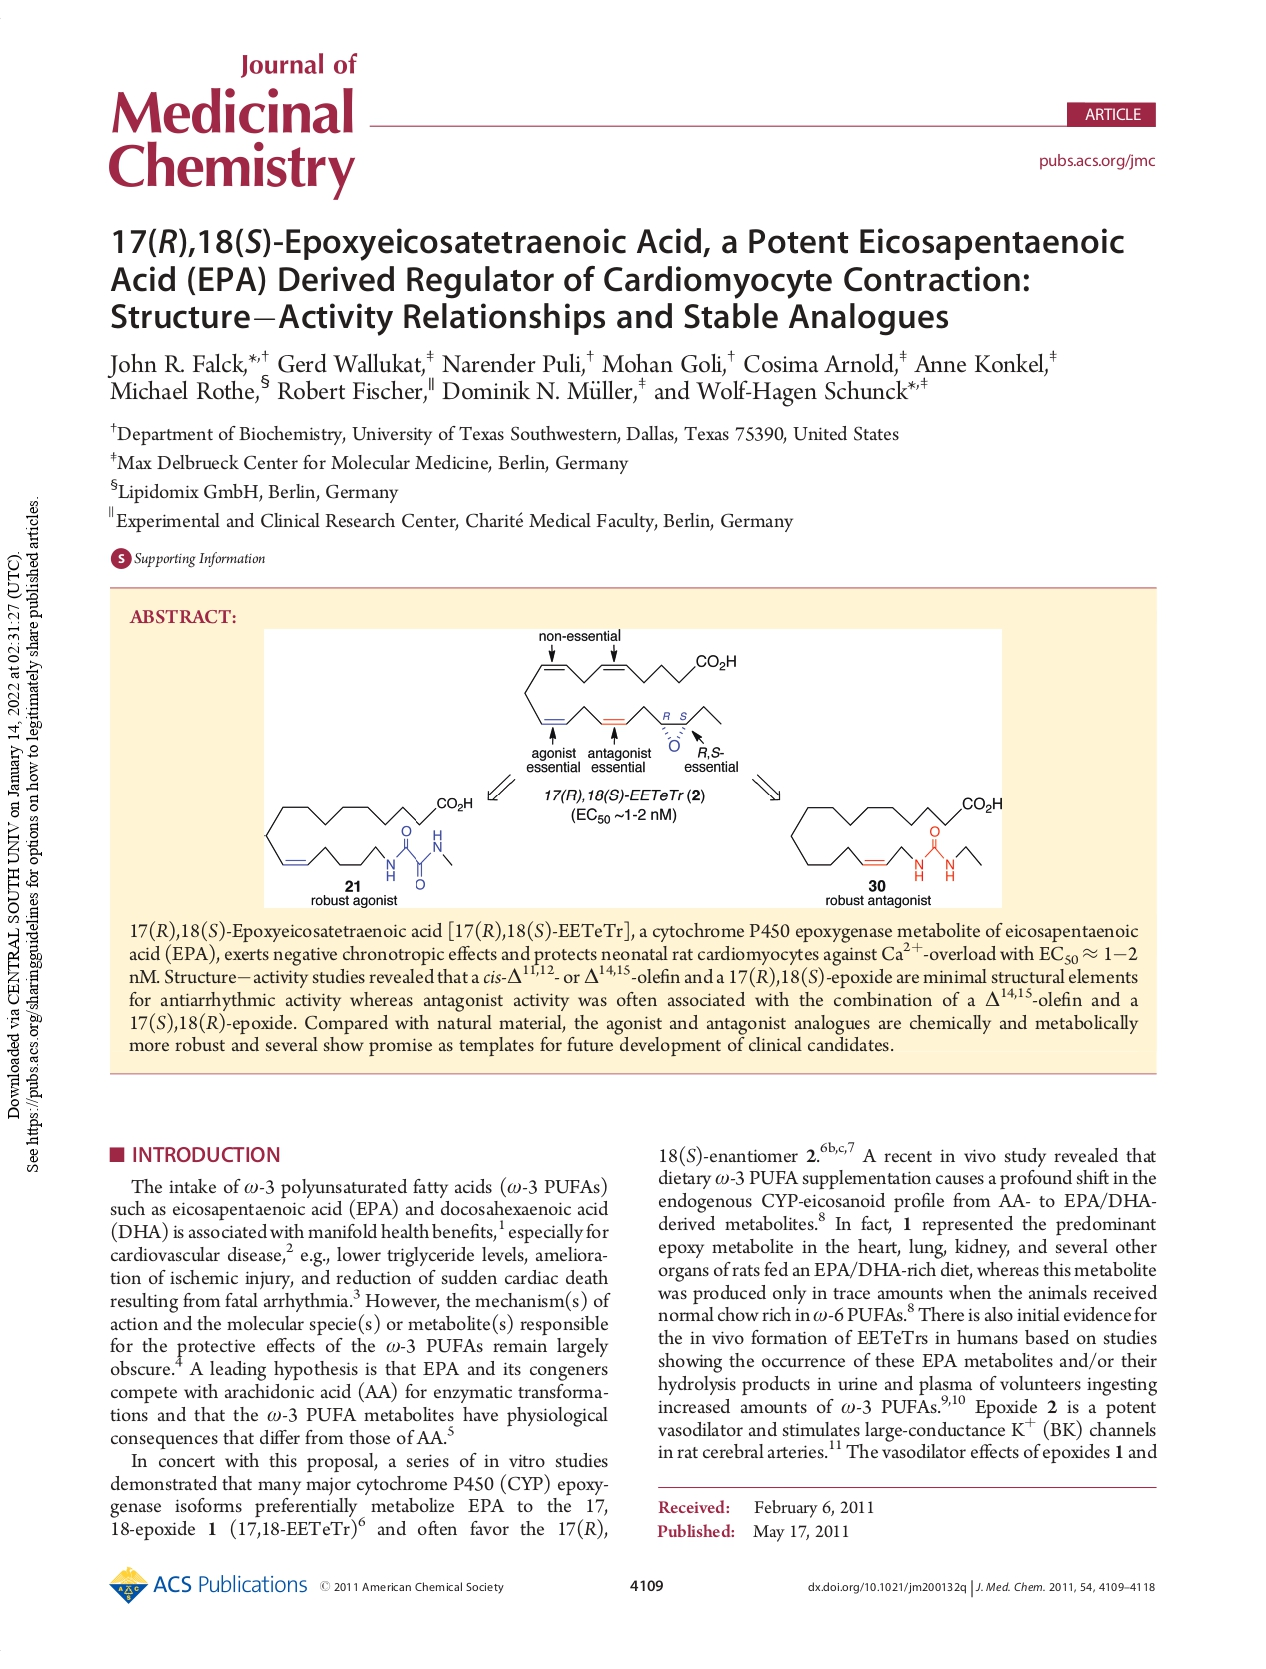exist_molecular: (261, 793, 477, 891), (789, 791, 1003, 884), (523, 653, 741, 731)
